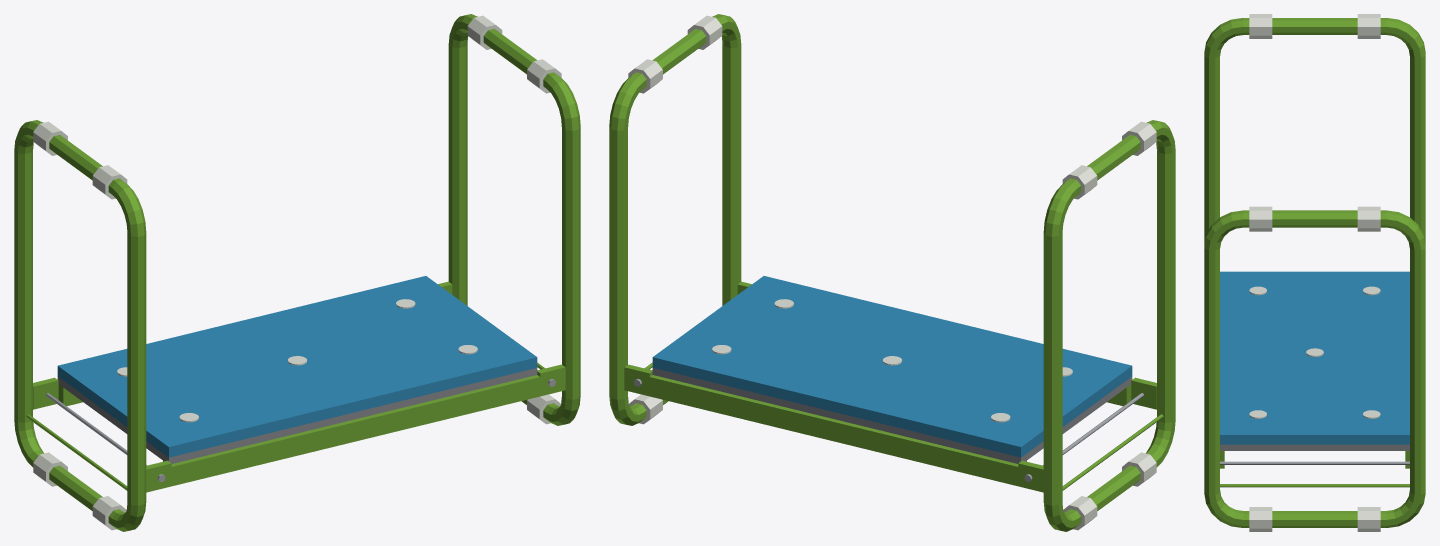
3 views of the same model, side by side, from view 1: azimuth 30°, elevation 25°; view 2: azimuth 150°, elevation 25°; view 3: azimuth 270°, elevation 25° (orthographic). The views are drawn at different scales.
Parts seen in each view (by area): view 1: Continuous_foam_kneeling_pad, Left_closed_tube_frame_with_integral_protectors, Right_closed_tube_frame_with_integral_protectors, Front_longitudinal_support_rail, Perforated_reversible_seat_pan, Right_Front_hinge_plate, Left_Front_hinge_plate, Left_Back_hinge_plate; view 2: Continuous_foam_kneeling_pad, Left_closed_tube_frame_with_integral_protectors, Right_closed_tube_frame_with_integral_protectors, Back_longitudinal_support_rail, Perforated_reversible_seat_pan, Right_Back_hinge_plate, Left_Back_hinge_plate, Left_Front_hinge_plate; view 3: Continuous_foam_kneeling_pad, Right_closed_tube_frame_with_integral_protectors, Left_closed_tube_frame_with_integral_protectors, Perforated_reversible_seat_pan, Right_silver_locking_bar, Right_lower_transverse_brace.
Part boxes in pixels (bbox=[...]): Continuous_foam_kneeling_pad: bbox=[57, 276, 537, 457]; Left_closed_tube_frame_with_integral_protectors: bbox=[14, 120, 146, 531]; Right_closed_tube_frame_with_integral_protectors: bbox=[448, 14, 580, 425]; Front_longitudinal_support_rail: bbox=[163, 375, 540, 486]; Perforated_reversible_seat_pan: bbox=[57, 368, 537, 463]; Right_Front_hinge_plate: bbox=[537, 364, 565, 396]; Left_Front_hinge_plate: bbox=[146, 460, 171, 492]; Left_Back_hinge_plate: bbox=[33, 377, 58, 409]; Continuous_foam_kneeling_pad: bbox=[652, 276, 1132, 457]; Left_closed_tube_frame_with_integral_protectors: bbox=[1043, 120, 1175, 531]; Right_closed_tube_frame_with_integral_protectors: bbox=[609, 14, 741, 425]; Back_longitudinal_support_rail: bbox=[649, 375, 1026, 486]; Perforated_reversible_seat_pan: bbox=[652, 368, 1132, 463]; Right_Back_hinge_plate: bbox=[624, 364, 652, 396]; Left_Back_hinge_plate: bbox=[1018, 460, 1043, 492]; Left_Front_hinge_plate: bbox=[1131, 377, 1156, 409]; Continuous_foam_kneeling_pad: bbox=[1220, 271, 1409, 444]; Right_closed_tube_frame_with_integral_protectors: bbox=[1204, 206, 1425, 531]; Left_closed_tube_frame_with_integral_protectors: bbox=[1204, 14, 1425, 243]; Perforated_reversible_seat_pan: bbox=[1220, 444, 1409, 450]; Right_silver_locking_bar: bbox=[1220, 461, 1409, 464]; Right_lower_transverse_brace: bbox=[1220, 484, 1409, 487].
Bounding box in the file's own units: 0.54 × 0.4 × 0.25.
